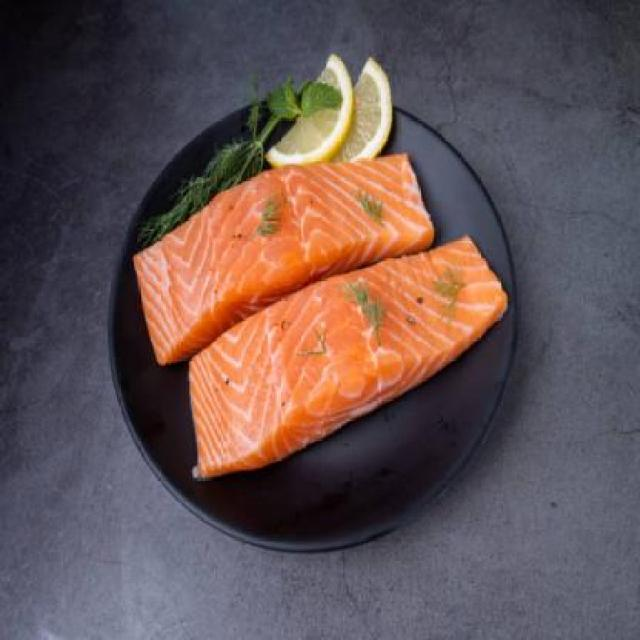salmon: (165, 231, 517, 485), (128, 148, 442, 372)
